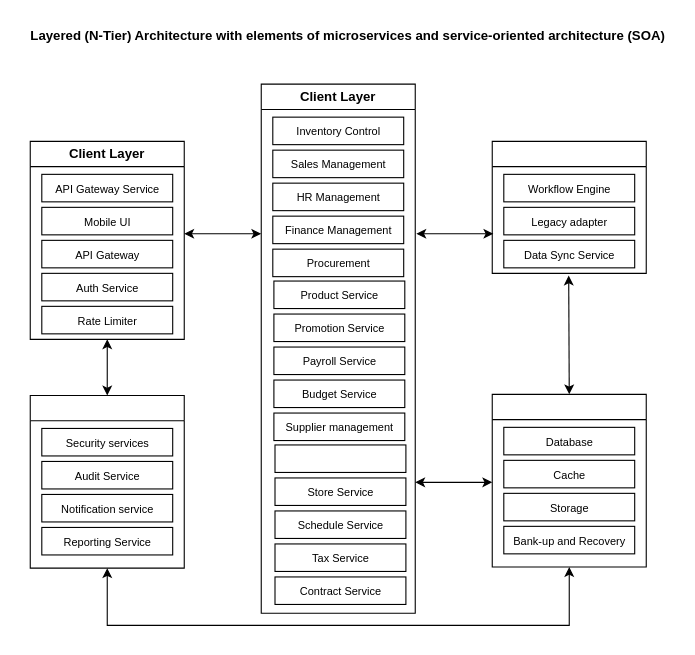
The diagram is 695 pixels wide and 655 high, and some of its shapes have lost their labels. Each missing label, with the box of its shape:
Cross-Cutting service: (29, 394, 184, 568)
Data Layer: (491, 393, 646, 567)
Integration Layer: (491, 140, 646, 273)
Warehouse Service: (274, 444, 406, 472)
